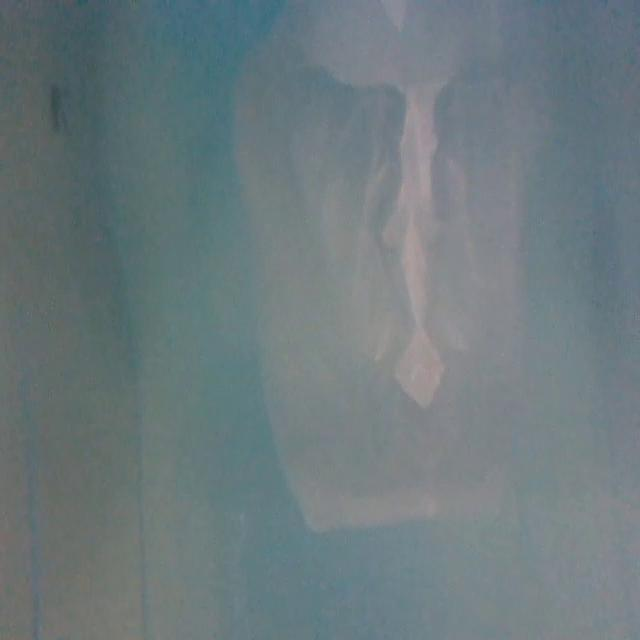plastic bags: (230, 0, 552, 554)
